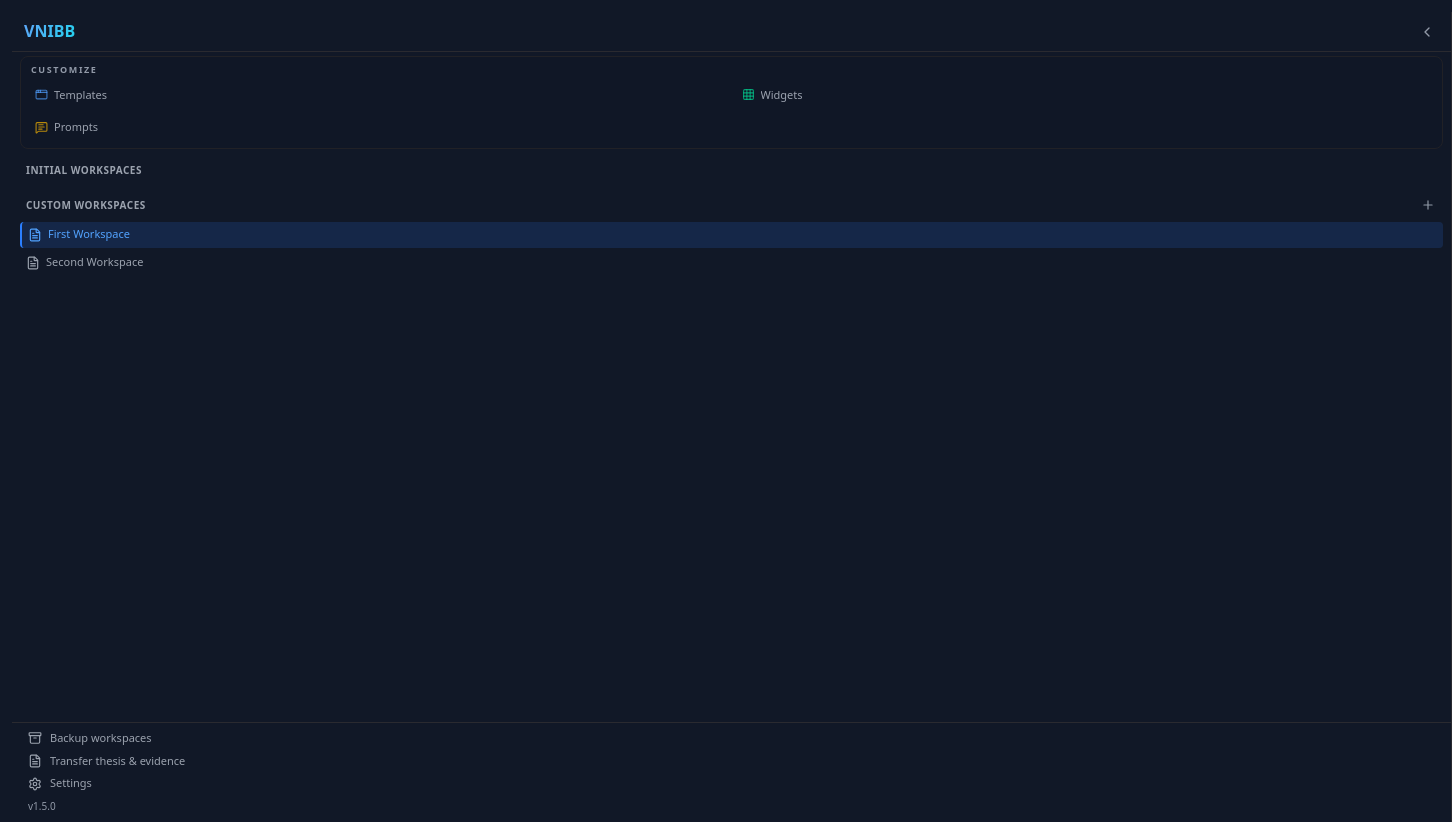
Scenario: Sidebar context menu accessibility › renders workspace actions inside a menu with menuitem children
# the user opens the context menu for a custom workspace.
Right-click the button "First Workspace": (89, 234) x1=28 y1=227 x2=1411 y2=242
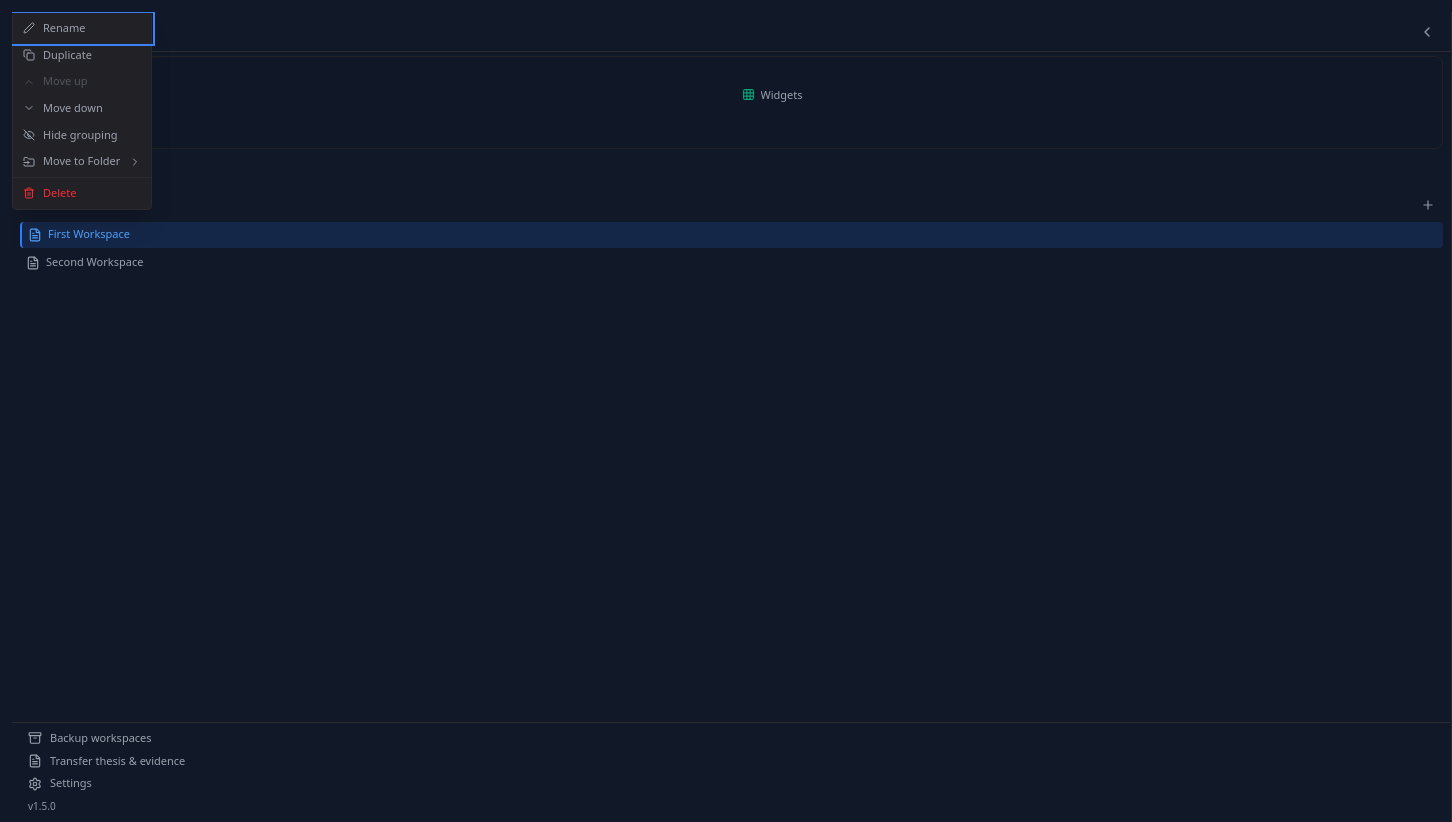
Result: the menu item "Rename" is shown at x1=13 y1=15 x2=151 y2=42
Result: the menu item "Move up" is shown at x1=13 y1=68 x2=151 y2=95
